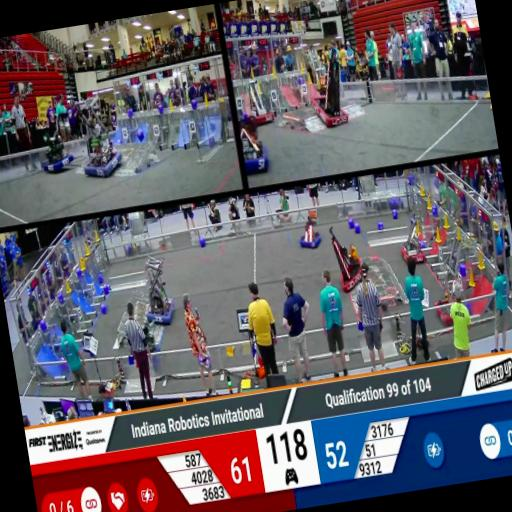robot: (69, 91, 125, 180), (424, 231, 476, 326), (302, 41, 352, 132), (137, 250, 177, 328), (326, 220, 368, 294), (235, 112, 271, 178), (394, 207, 430, 269), (240, 77, 276, 131), (36, 128, 76, 176), (295, 215, 323, 252)
